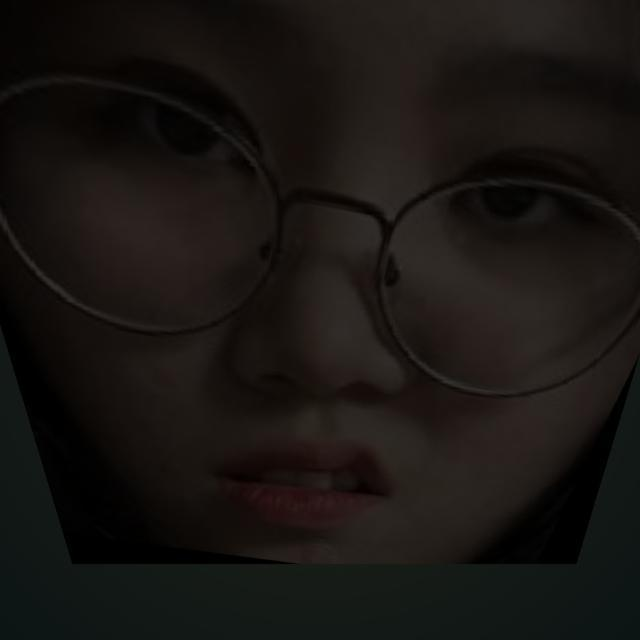Angry: (17, 16, 640, 569)
